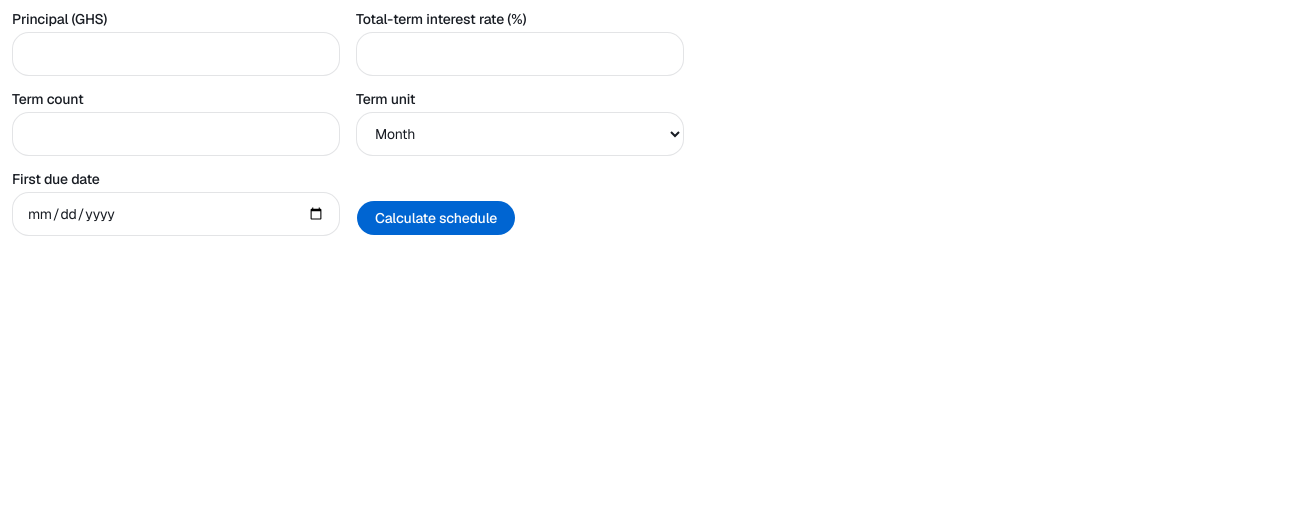
Scenario: AmortizationPreviewForm › renders the formatted schedule after a successful calculation
Type "10000" into the field labelled "Principal (GHS)".
click(176, 54); type("10000")  # box [12,32,340,76]
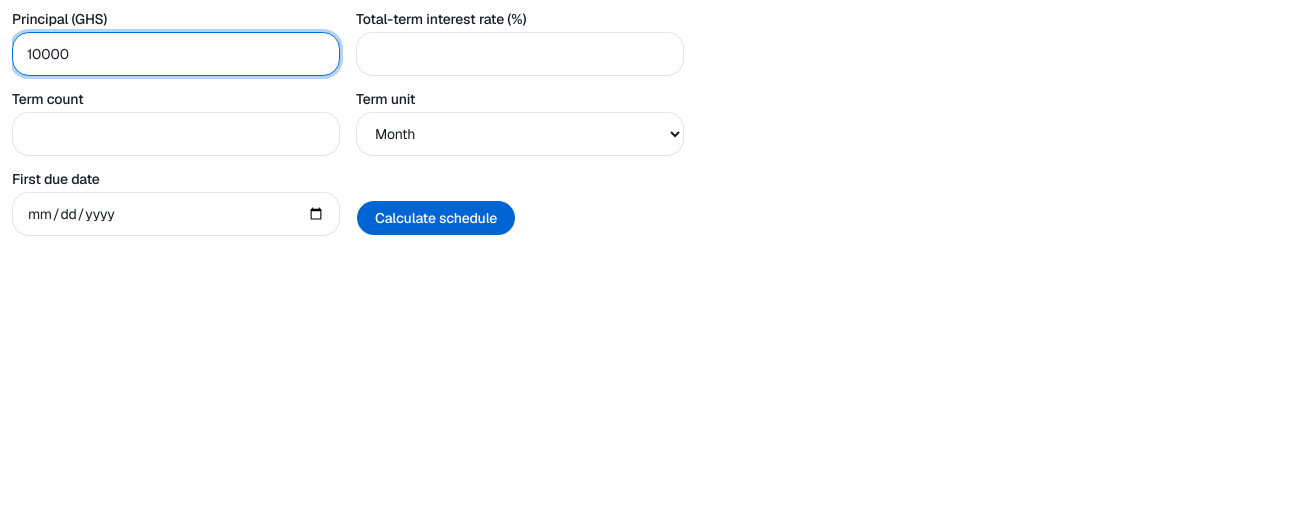
Type "12" into the field labelled "Total-term interest rate (%)".
click(520, 54); type("12")  # box [356,32,684,76]
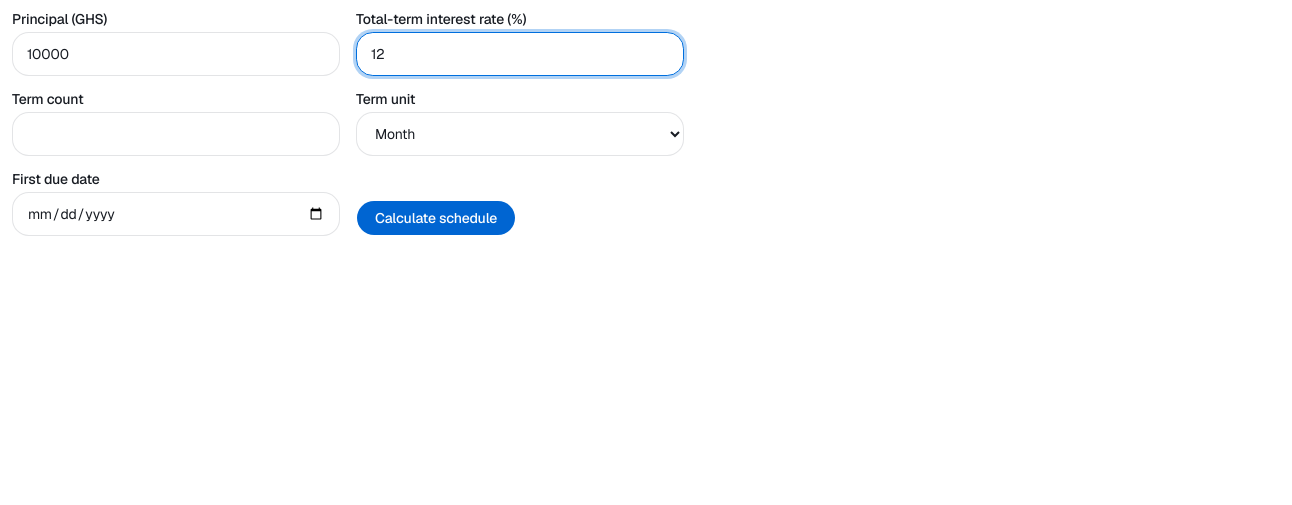
Type "2" into the number field labelled "Term count".
click(176, 134); type("2")  # box [12,112,340,156]
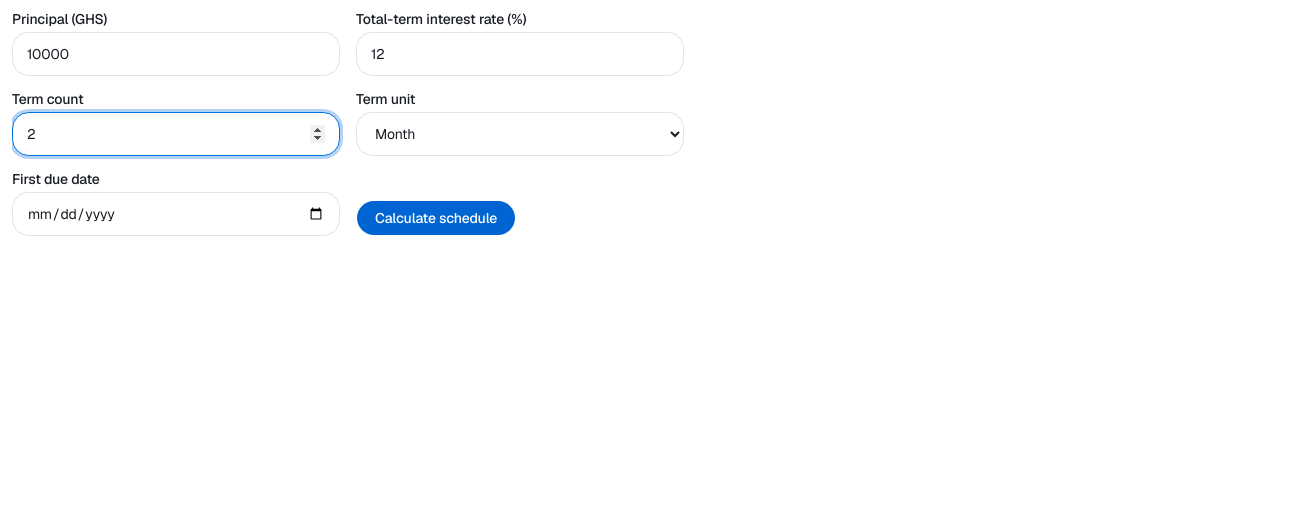
Type "2026-09-01" into the date field labelled "First due date".
click(176, 214); type("2026-09-01")  # box [12,192,340,236]
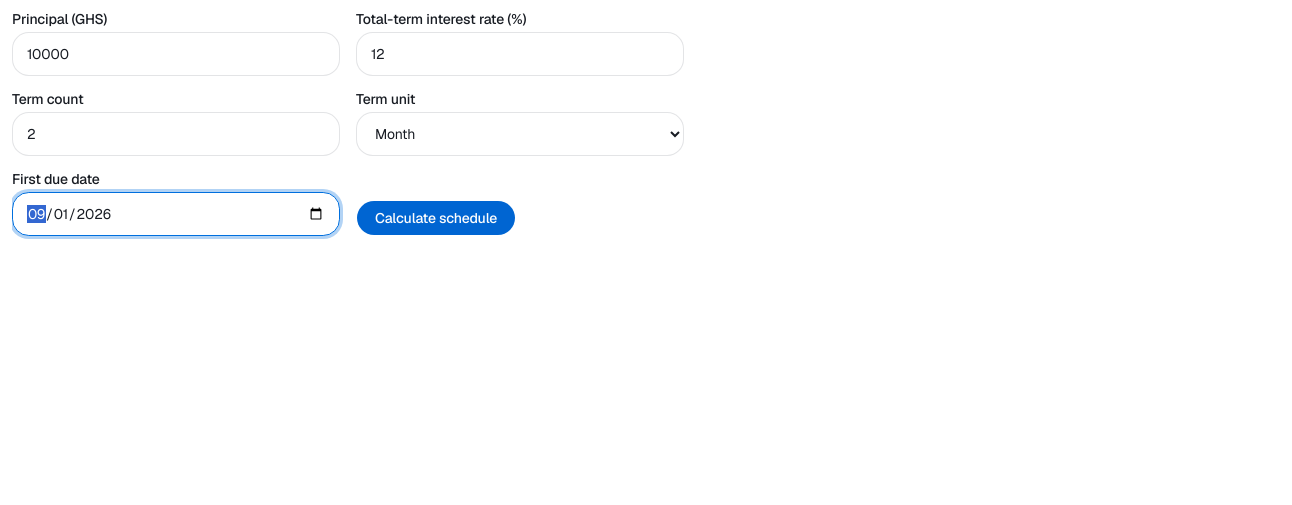
Click the button "Calculate schedule".
click(436, 218)  # box [356,200,516,236]
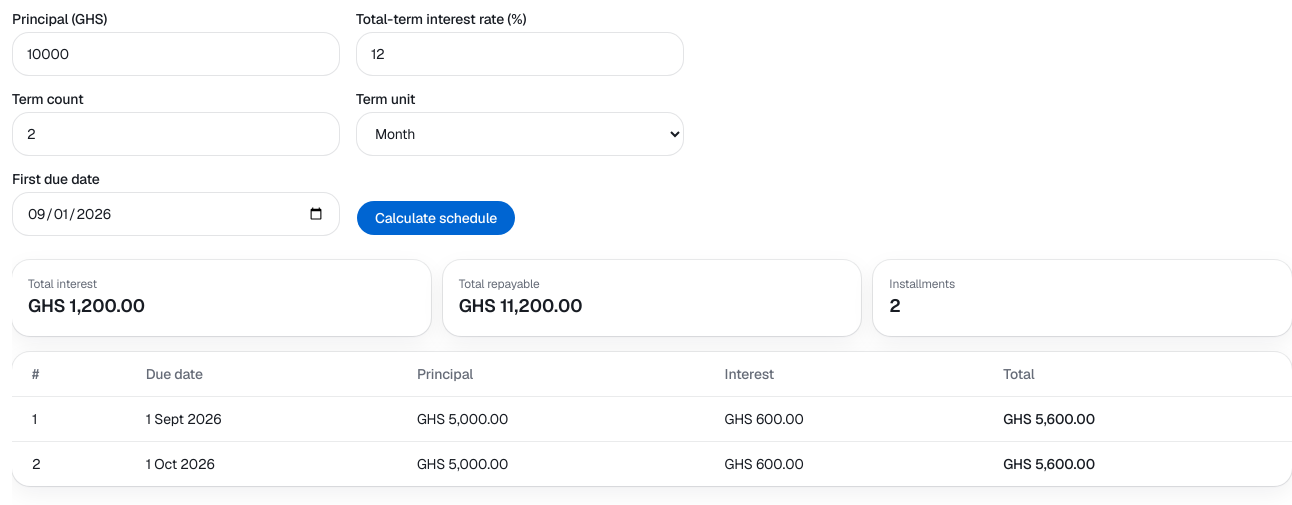
Check: the text "GHS 1,200.00" is shown, box [28,294,145,317]
Check: the text "GHS 11,200.00" is shown, box [459,294,582,317]
Check: the text "GHS 5,600.00" is shown 2 times, box [983,396,1291,442]; [983,442,1291,486]
